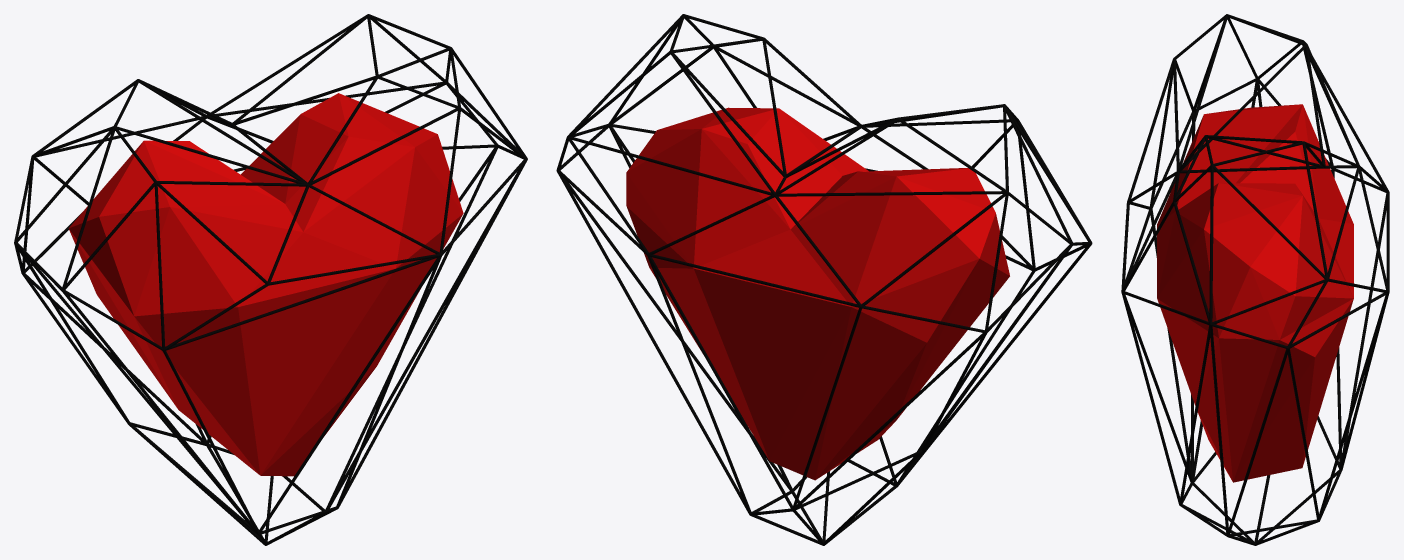
File: cube_heart_collectible.fbx
The picture shows the model from 3 angles, left to right: view 1: azimuth 30°, elevation 25°; view 2: azimuth 150°, elevation 25°; view 3: azimuth 270°, elevation 25°; orthographic projection. The views are drawn at different scales.
Visible parts, largest first — view 1: heart, wireframe; view 2: heart, wireframe; view 3: heart, wireframe.
Part boxes in pixels (left/top/right/bottom): heart: left=68, top=93, right=463, bottom=476; wireframe: left=14, top=14, right=527, bottom=545; heart: left=626, top=107, right=1009, bottom=480; wireframe: left=556, top=14, right=1092, bottom=545; heart: left=1157, top=104, right=1353, bottom=482; wireframe: left=1121, top=14, right=1389, bottom=545.
Size of the model in its own units: 360 by 332 by 174.
